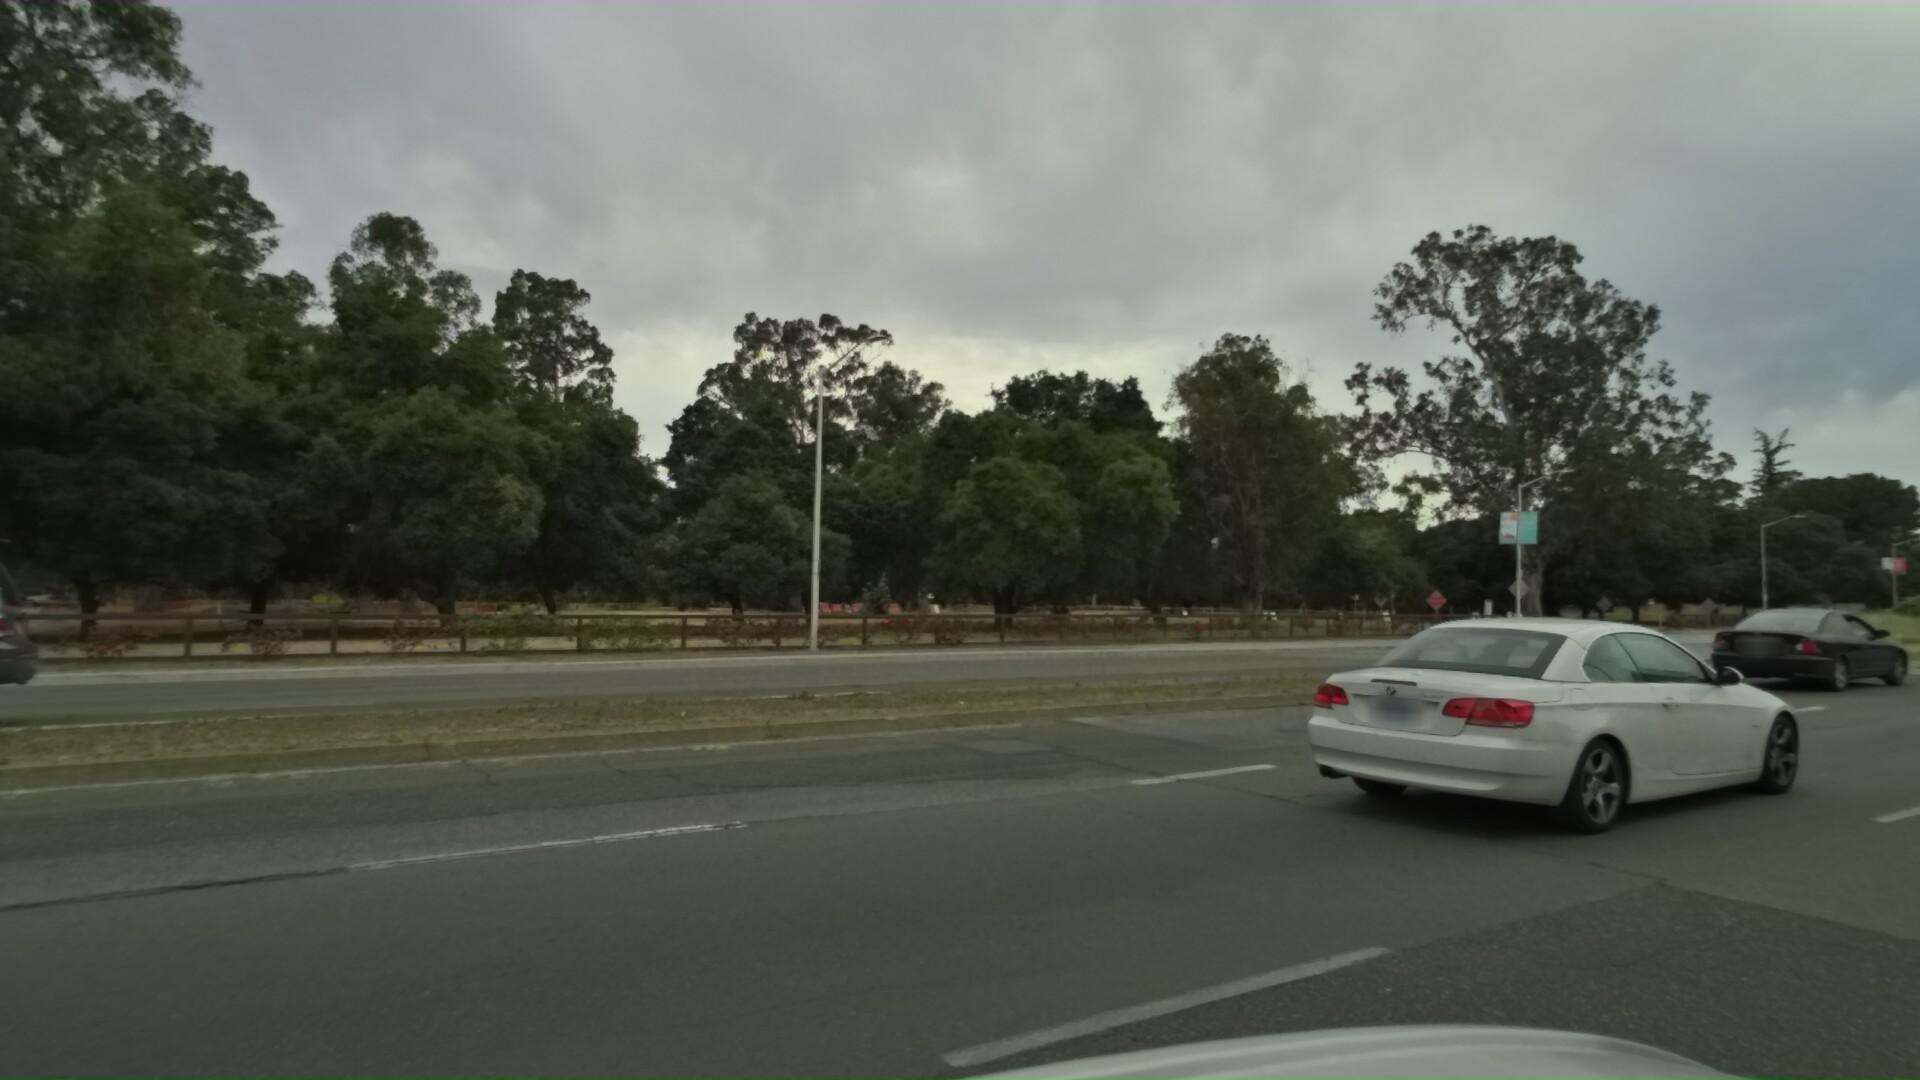car: (1286, 588, 1851, 829), (1692, 588, 1911, 684)
